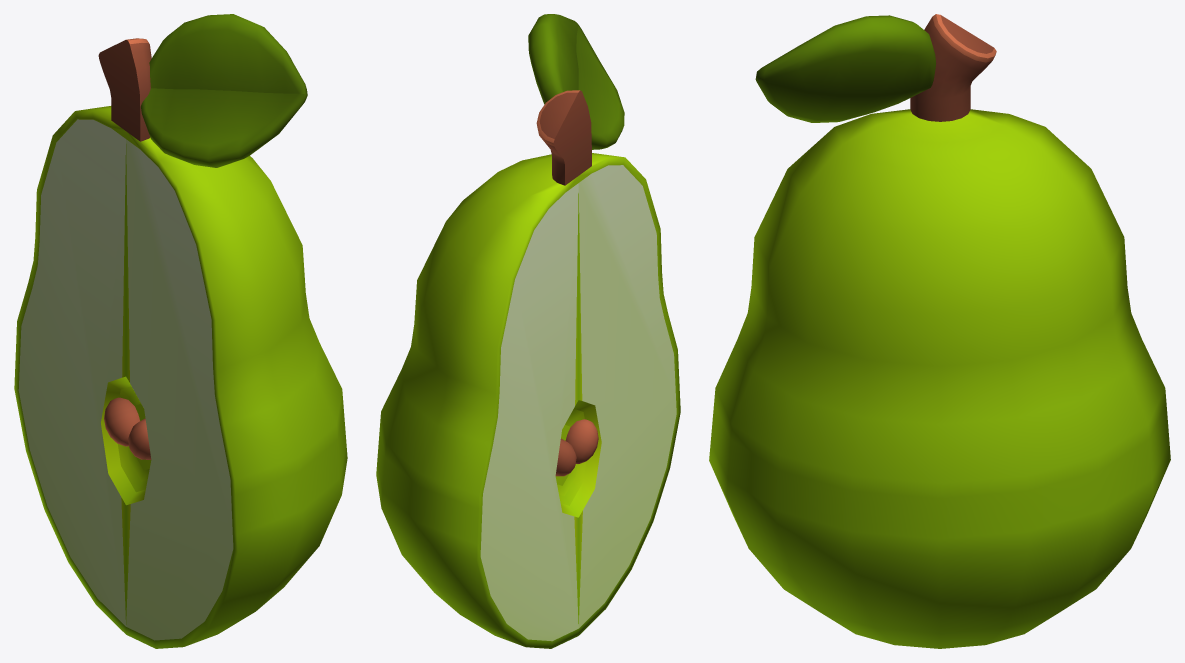
The model's file is Pear_V1_01.fbx.
The picture shows the model from 3 angles, left to right: view 1: azimuth 30°, elevation 25°; view 2: azimuth 150°, elevation 25°; view 3: azimuth 270°, elevation 25°; orthographic projection. The views are drawn at different scales.
Visible parts, largest first — view 1: Pear_V1_01; view 2: Pear_V1_01; view 3: Pear_V1_01.
Boxes of the visible parts, bbox=[...] form: Pear_V1_01: bbox=[14, 14, 347, 648]; Pear_V1_01: bbox=[376, 14, 680, 648]; Pear_V1_01: bbox=[709, 14, 1170, 648].
Bounding box in the file's own units: 13.37 × 39.99 × 25.83.
